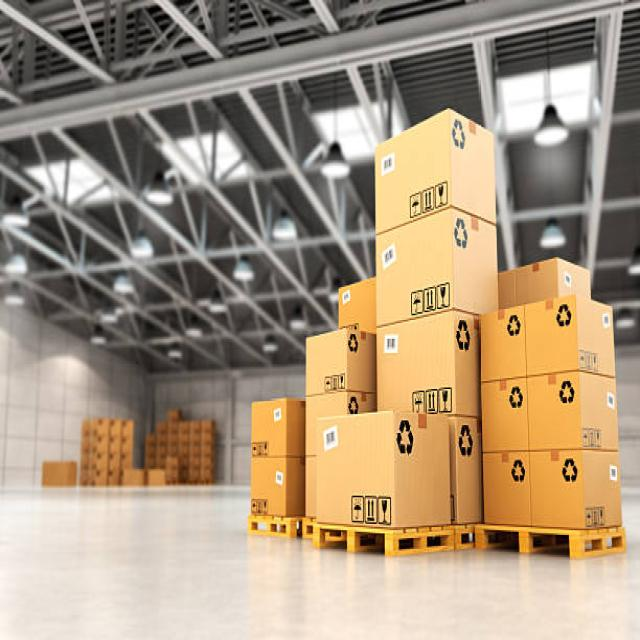Wooden-Pallets: (471, 518, 630, 570), (307, 508, 452, 562), (241, 509, 301, 550)
